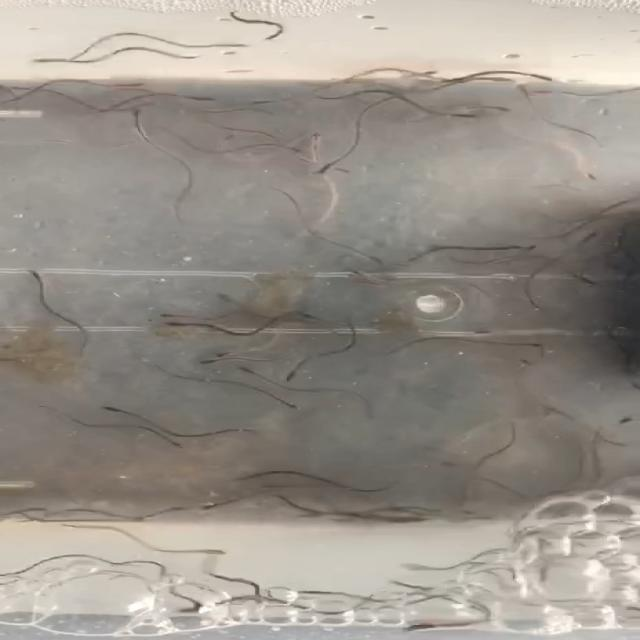active_glass_eel: (231, 470, 266, 486), (183, 91, 220, 106), (201, 542, 230, 560), (31, 54, 62, 70), (115, 78, 149, 92), (532, 73, 566, 86), (248, 588, 275, 604), (182, 599, 210, 614), (517, 241, 543, 257), (457, 506, 483, 522), (399, 624, 433, 636), (304, 131, 329, 147), (216, 41, 252, 52), (18, 270, 51, 282), (218, 292, 246, 306), (164, 317, 190, 332), (252, 96, 284, 108), (397, 562, 429, 574), (120, 106, 147, 120), (432, 457, 463, 469), (486, 74, 514, 87), (574, 170, 602, 183), (306, 165, 339, 176), (533, 400, 563, 412), (192, 357, 223, 368), (197, 501, 228, 512), (278, 143, 304, 156), (102, 402, 128, 415), (256, 128, 280, 142), (514, 81, 535, 97), (296, 507, 320, 521), (364, 255, 389, 268), (533, 86, 560, 98), (165, 504, 192, 516), (351, 268, 374, 282), (168, 435, 188, 451), (416, 67, 442, 79), (574, 228, 600, 240), (207, 350, 235, 361), (520, 341, 548, 352), (461, 108, 483, 121), (576, 275, 598, 288), (238, 364, 261, 376), (122, 512, 143, 525), (278, 400, 302, 411), (153, 312, 179, 322), (137, 99, 157, 111), (490, 105, 514, 115), (517, 358, 537, 370), (329, 166, 354, 175), (281, 371, 303, 381)
